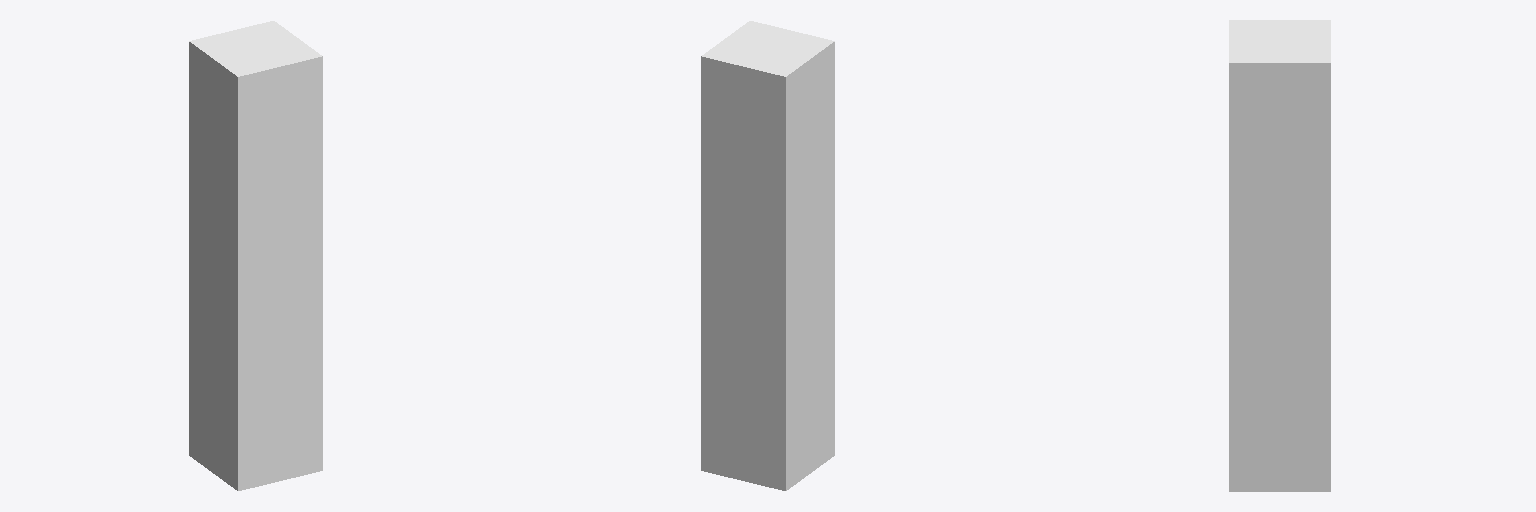
The robot description file, URDF, robot "tall_box.urdf":
<?xml version="0.0" ?>
<robot name="tall_box.urdf">
  <link name="base_link">
    <inertial>
       <origin rpy="0 0 0" xyz="0 0 0"/>
       <mass value="0.001"/>
       <inertia ixx="1" ixy="0" ixz="0" iyy="1" iyz="0" izz="1"/>
    </inertial>
  </link>
  <link name="body">
    <contact>
      <lateral_friction value="2.0"/>
    </contact>
    <inertial>
       <origin rpy="0 0 0" xyz="0 0 0"/>
       <mass value="0.2"/>
       <inertia ixx="1" ixy="0" ixz="0" iyy="1" iyz="0" izz="1"/>
    </inertial>
    <visual>
      <origin rpy="0 0 0" xyz="0 0 0"/>
      <geometry>
		    <box size="0.03 0.03 0.14"/>
      </geometry>
      <material name="white">
        <color rgba="1 1 1 1"/>
      </material>
    </visual>
    <collision>
      <origin rpy="0 0 0" xyz="0 0 0"/>
      <geometry>
	 	    <box size="0.03 0.03 0.14"/>
      </geometry>
    </collision>
  </link>
  <joint name="blj" type="fixed">
    <origin xyz="0 0 0" rpy="0 0 0"/>
    <parent link="base_link"/>
    <child link="body"/>
  </joint>
</robot>

--- Facts derived from the render (not from the file) ---
Views: 3 orthographic renders of the robot side by side, from view 1: azimuth 30°, elevation 25°; view 2: azimuth 150°, elevation 25°; view 3: azimuth 270°, elevation 25°.
Model tall_box.urdf with 2 links and 1 joints (1 fixed), rooted at base_link, posed every joint at zero.
Visible links, largest first — view 1: body; view 2: body; view 3: body.
Boxes of the visible links, x1,y1,x2,y2 form: body: [189, 21, 322, 490]; body: [701, 21, 834, 490]; body: [1229, 20, 1330, 491].
Size in the robot's own frame: 0.03 by 0.03 by 0.14 metres.
Geometry: primitives only (box / cylinder / sphere), no mesh files.